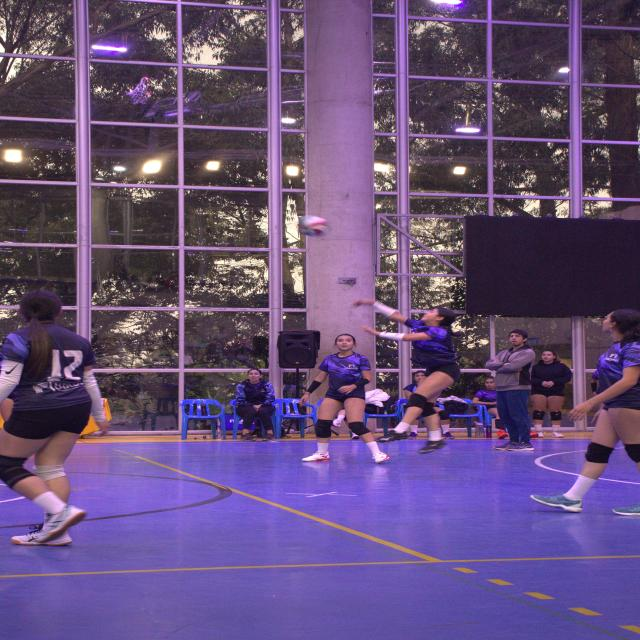volleyball: (298, 215, 329, 238)
